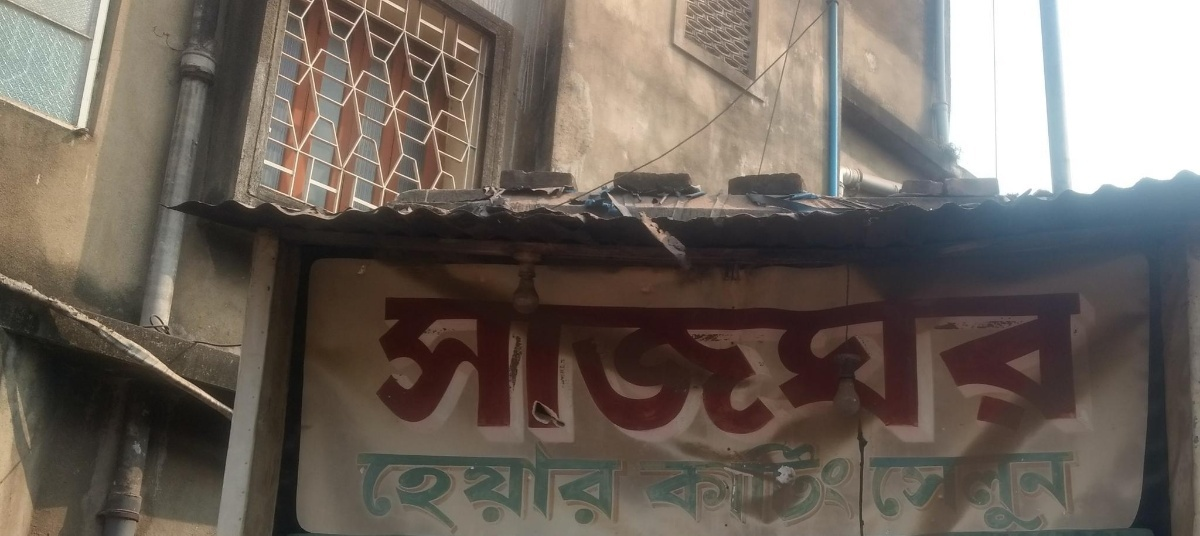text: (369, 284, 384, 455), (385, 284, 400, 455), (401, 284, 416, 455), (417, 284, 432, 455), (433, 284, 448, 455), (449, 284, 464, 455), (465, 284, 480, 455), (481, 284, 496, 455), (497, 284, 512, 455), (513, 284, 528, 455), (529, 284, 544, 455), (545, 284, 560, 455), (561, 284, 576, 455), (577, 284, 592, 455), (593, 284, 608, 455), (609, 284, 624, 455), (625, 284, 640, 455), (641, 284, 656, 455), (657, 284, 672, 455), (673, 284, 688, 455), (689, 284, 704, 455), (705, 284, 720, 455), (721, 284, 736, 455), (737, 284, 752, 455), (753, 284, 768, 455), (769, 284, 784, 455), (785, 284, 800, 455), (801, 284, 816, 455), (817, 284, 832, 455), (833, 284, 848, 455), (849, 284, 864, 455), (865, 284, 880, 455), (881, 284, 896, 455), (897, 284, 912, 455), (913, 284, 928, 455), (929, 284, 944, 455), (945, 284, 960, 455), (961, 284, 976, 455), (977, 284, 992, 455), (993, 284, 1008, 455), (1009, 284, 1024, 455), (1025, 284, 1040, 455), (1041, 284, 1056, 455), (1057, 284, 1072, 455), (1073, 284, 1088, 455), (369, 436, 384, 536), (385, 436, 400, 536), (401, 436, 416, 536), (417, 436, 432, 536), (433, 436, 448, 536), (449, 436, 464, 536), (465, 436, 480, 536), (481, 436, 496, 536), (497, 436, 512, 536), (513, 436, 528, 536), (529, 436, 544, 536), (545, 436, 560, 536), (561, 436, 576, 536), (577, 436, 592, 536), (593, 436, 608, 536), (609, 436, 624, 536), (865, 444, 880, 536), (881, 444, 896, 536), (897, 444, 912, 536), (913, 444, 928, 536), (929, 444, 944, 536), (945, 444, 960, 536), (961, 444, 976, 536), (977, 444, 992, 536), (993, 444, 1008, 536), (1009, 444, 1024, 536), (1025, 444, 1040, 536), (1041, 444, 1056, 536), (1057, 444, 1072, 536), (1089, 284, 1097, 455), (641, 437, 656, 528), (657, 437, 672, 528), (673, 437, 688, 528), (689, 437, 704, 528), (705, 437, 720, 528), (721, 437, 736, 528), (737, 437, 752, 528), (753, 437, 768, 528), (769, 437, 784, 528), (785, 437, 800, 528), (801, 437, 816, 528), (817, 437, 832, 528), (833, 437, 848, 528), (1073, 444, 1087, 536), (849, 437, 858, 528), (360, 436, 368, 536), (635, 437, 640, 528), (861, 444, 864, 536), (625, 436, 627, 536), (367, 284, 368, 455)
